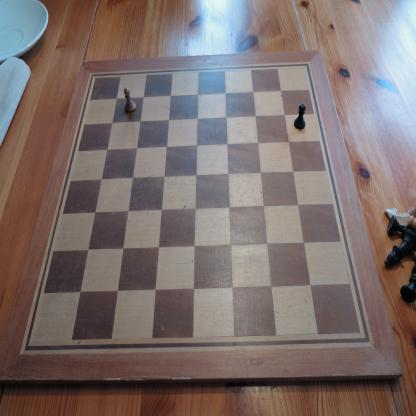black-bishop: (383, 228, 415, 271)
black-pawn: (293, 103, 307, 130)
white-knight: (383, 207, 416, 230)
white-pawn: (123, 87, 137, 113)
